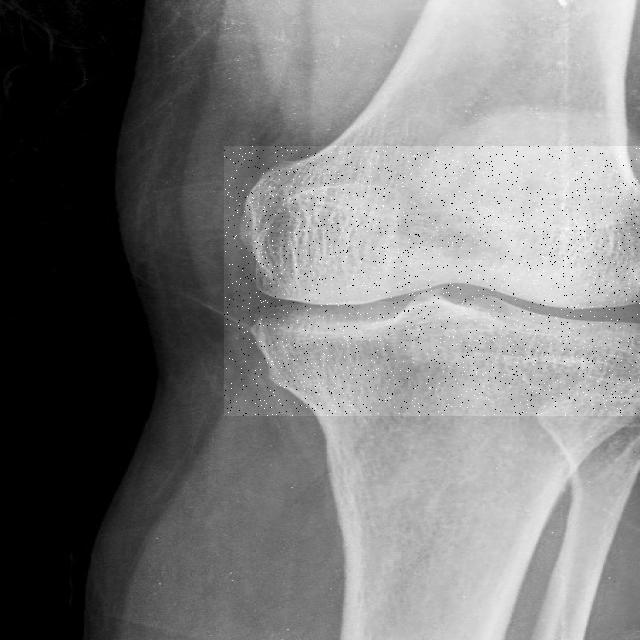osteo: (224, 146, 640, 416)
